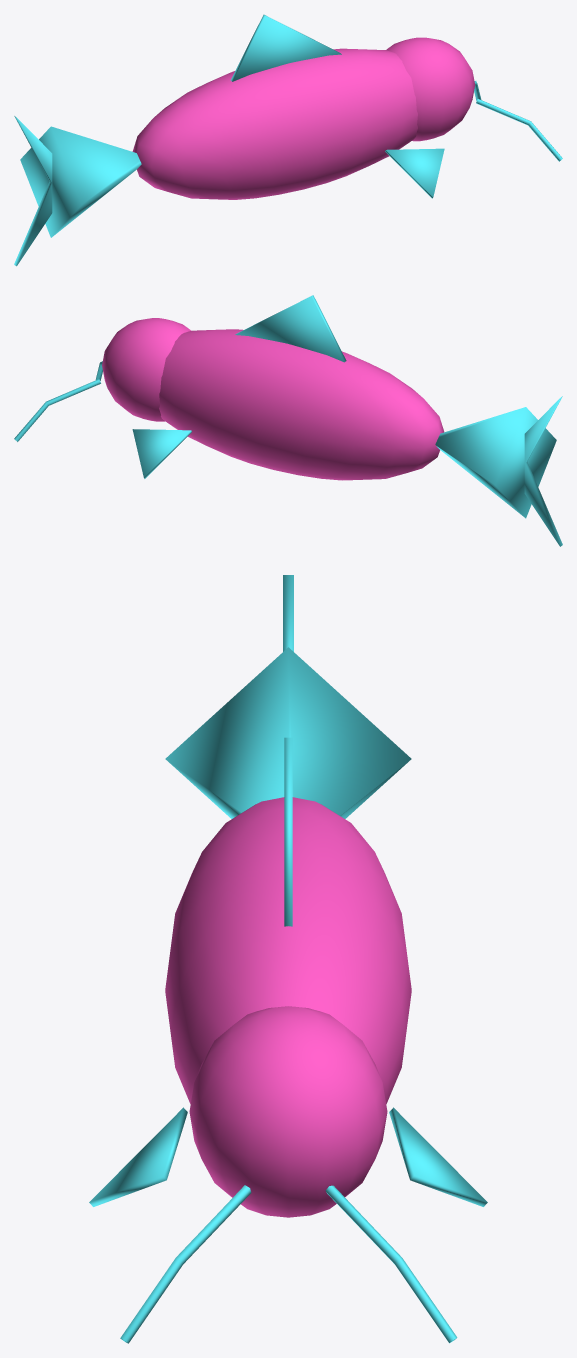
File: neon_holo_koi.glb
The picture shows the model from 3 angles, top to bottom: view 1: azimuth 30°, elevation 25°; view 2: azimuth 150°, elevation 25°; view 3: azimuth 270°, elevation 25°; orthographic projection. The views are drawn at different scales.
Parts seen in each view (by area): view 1: SpinKoi; view 2: SpinKoi; view 3: SpinKoi.
Part boxes in pixels (x1,y1,x2,y2): SpinKoi: (14,14,562,266); SpinKoi: (14,295,562,546); SpinKoi: (89,575,487,1343).
Size of the model in its own units: 8.54 by 3.05 by 2.91.
